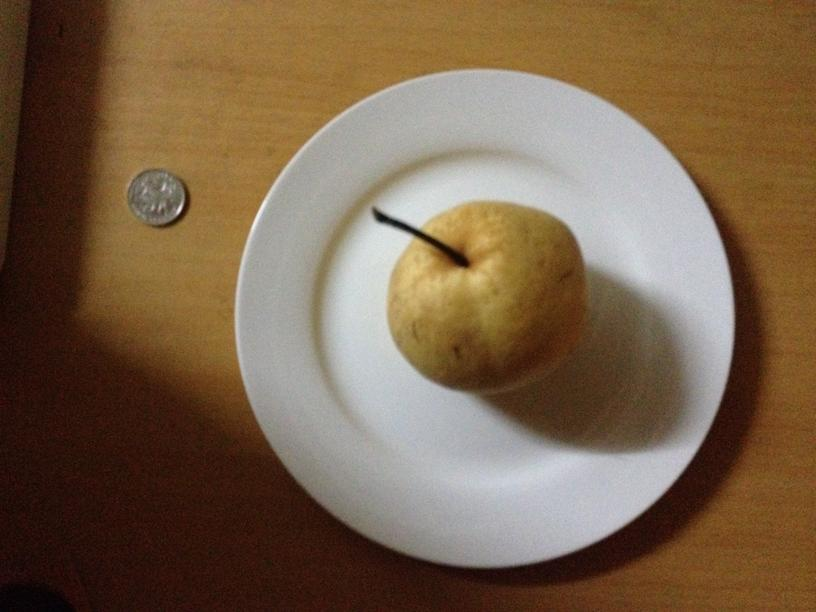coin: (124, 169, 187, 228)
pear: (369, 202, 584, 392)
